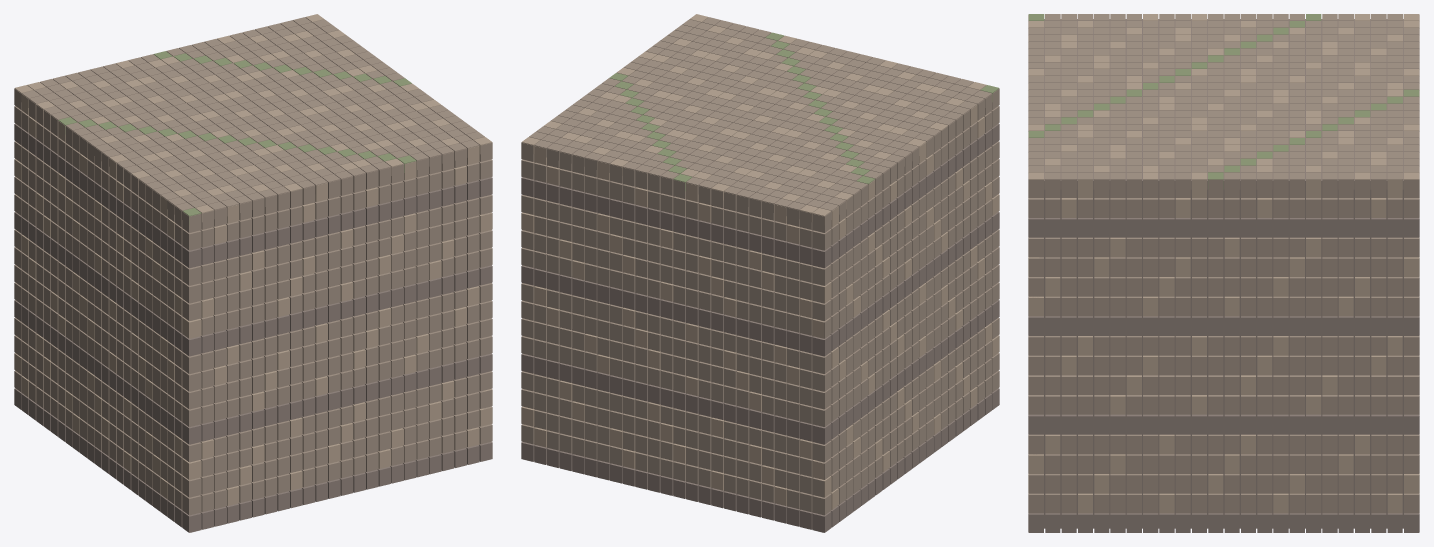
The model's file is CanyonRock.fbx.
3 renders of one model, left to right at view 1: azimuth 30°, elevation 25°; view 2: azimuth 150°, elevation 25°; view 3: azimuth 270°, elevation 25°, orthographic. The views are drawn at different scales.
Parts seen in each view (by area): view 1: CanyonRock; view 2: CanyonRock; view 3: CanyonRock.
Part boxes in pixels (<box>): CanyonRock: <box>14,14,492,532</box>; CanyonRock: <box>521,14,999,532</box>; CanyonRock: <box>1028,14,1419,532</box>.
Bounding box in the file's own units: 1 × 0.998 × 1.
